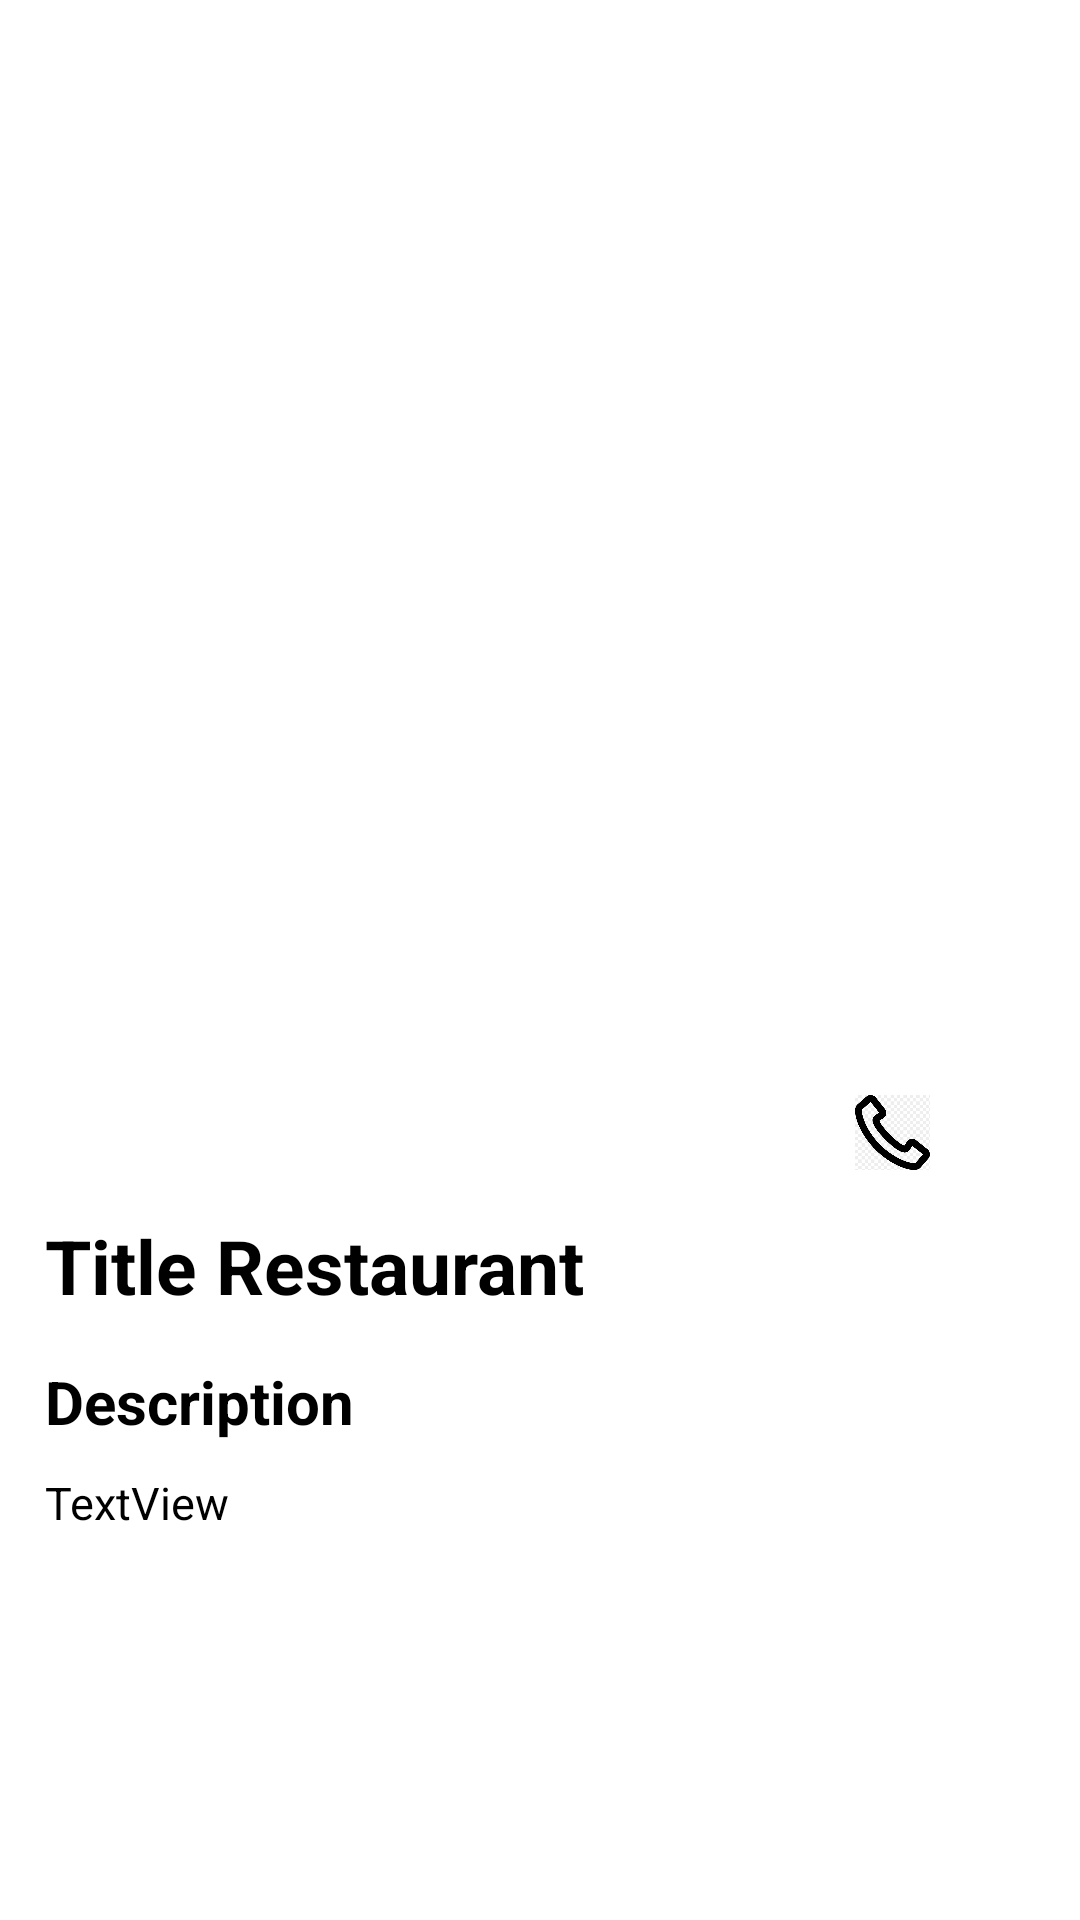

Locate icon controls on the screen. Image size 1080x1920, boxes as [left=x1, top=y1, right=x2, bottom=y2].
tel: [left=855, top=1095, right=930, bottom=1170]
